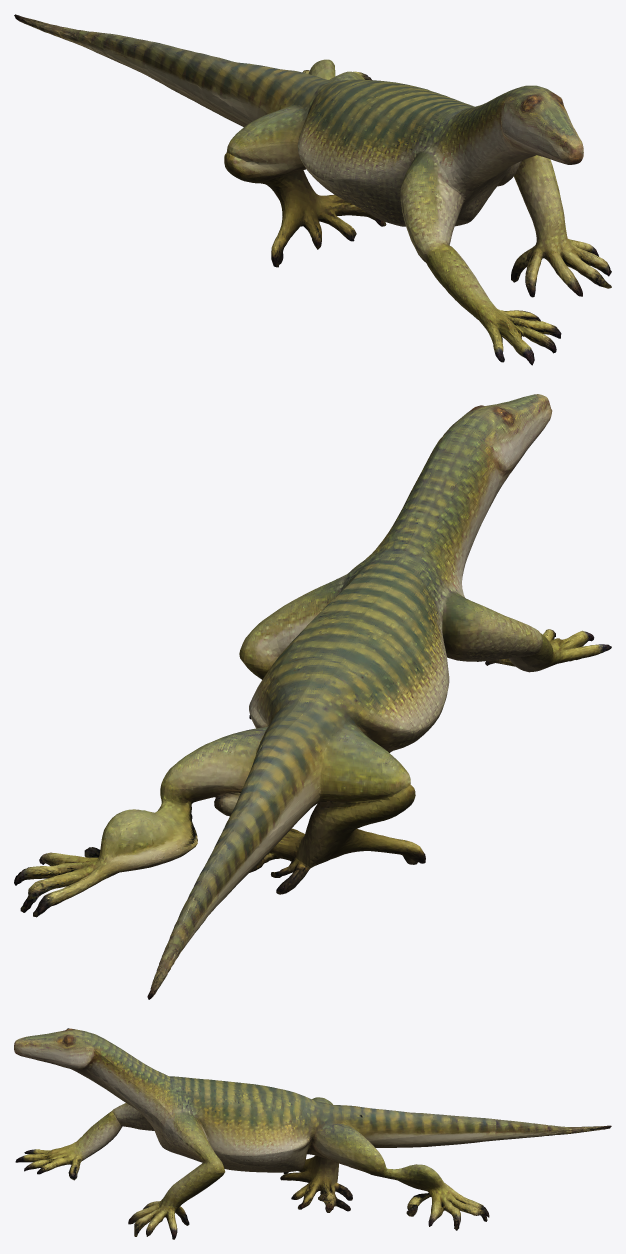
3 views of the same model, one above another, from view 1: azimuth 30°, elevation 25°; view 2: azimuth 150°, elevation 25°; view 3: azimuth 270°, elevation 25° (orthographic). The views are drawn at different scales.
Parts seen in each view (by area): view 1: world; view 2: world; view 3: world.
Boxes of the visible parts, bbox=[...] form: world: bbox=[14, 14, 611, 365]; world: bbox=[14, 394, 611, 999]; world: bbox=[14, 1028, 611, 1239].
Size of the model in its own units: 0.3047 by 0.3081 by 0.9372.
1 material, 1 textured.
